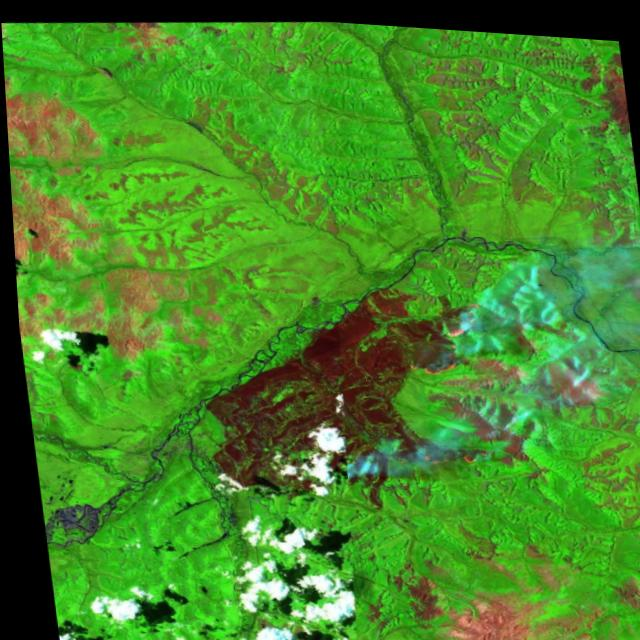fire: (384, 283, 501, 463)
